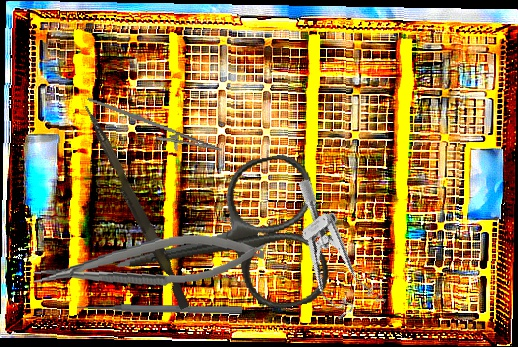Iris Scissors: (101, 150, 334, 338)
Needle Holder: (31, 229, 266, 295), (80, 97, 227, 162)
Pusher: (75, 103, 196, 311), (76, 301, 243, 316)
Speculum: (257, 176, 398, 332)
